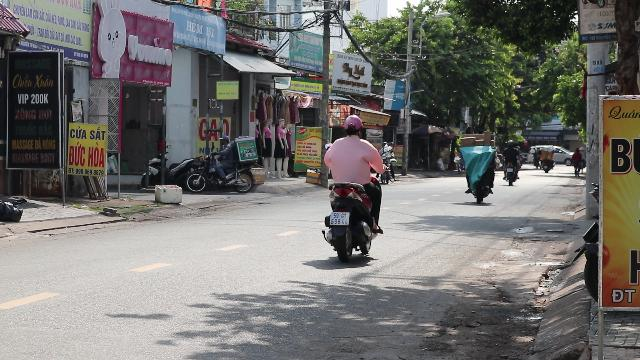helmet: (342, 114, 364, 136)
licenseplate: (330, 211, 350, 224)
motorcyclist: (319, 115, 386, 262)
